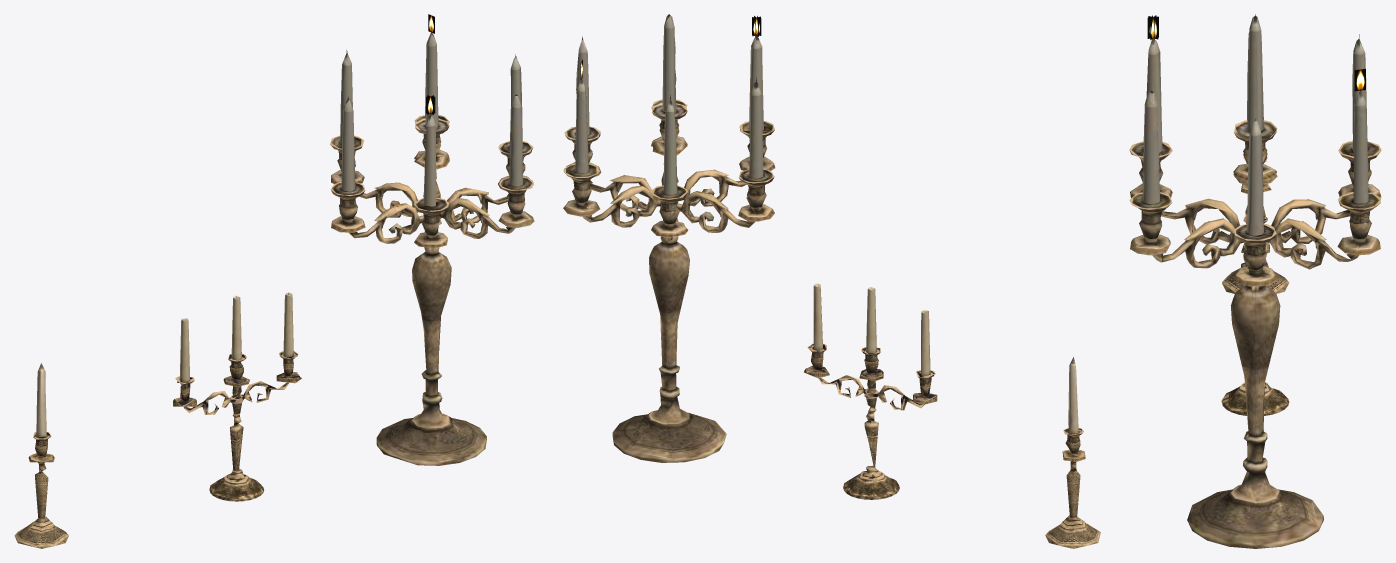
File: candleholders-brass.lite.7e1b42c1.glb
3 views of the same model, side by side, from view 1: azimuth 30°, elevation 25°; view 2: azimuth 150°, elevation 25°; view 3: azimuth 270°, elevation 25° (orthographic). The views are drawn at different scales.
Parts seen in each view (by area): view 1: model; view 2: model; view 3: model.
Part boxes in pixels (<box>): model: <box>14,14,534,548</box>; model: <box>563,14,1100,548</box>; model: <box>1129,14,1381,548</box>.
Bounding box in the file's own units: 1.05 × 0.8018 × 0.3634.
5 materials, 5 textured.
